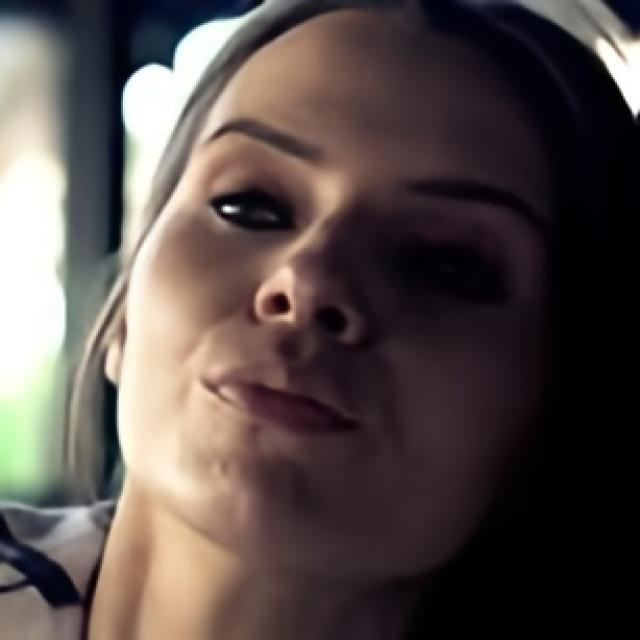surprise: (112, 1, 560, 584)
